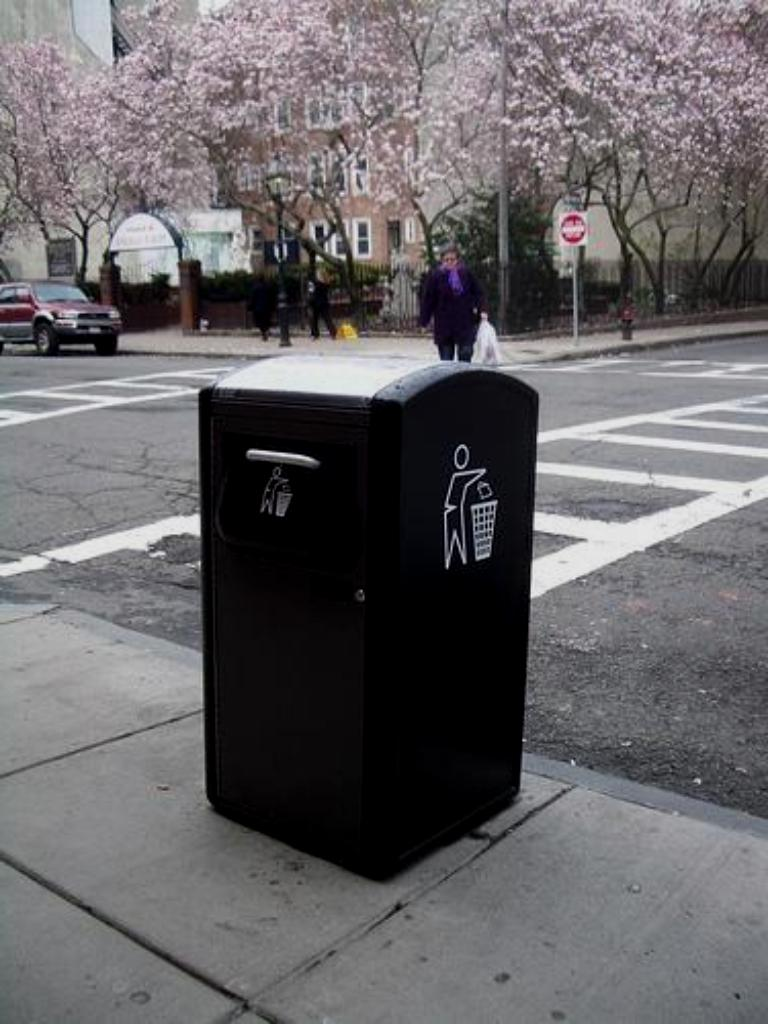dustbin: (189, 346, 543, 860)
